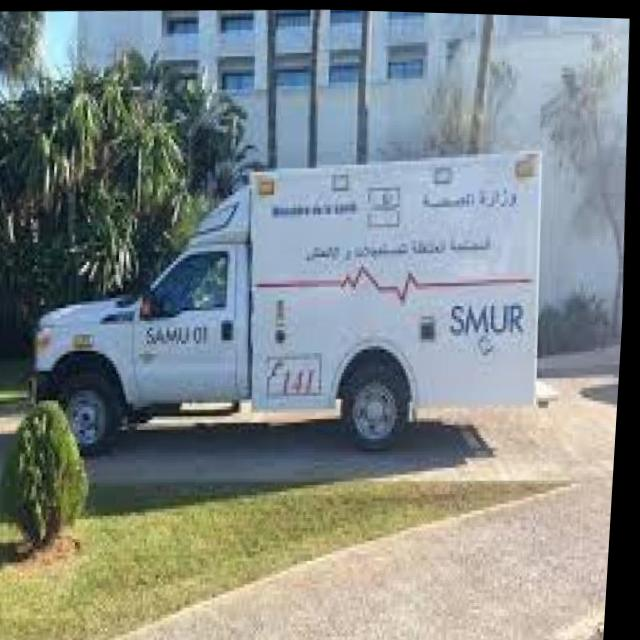ambulance: (12, 124, 568, 478)
